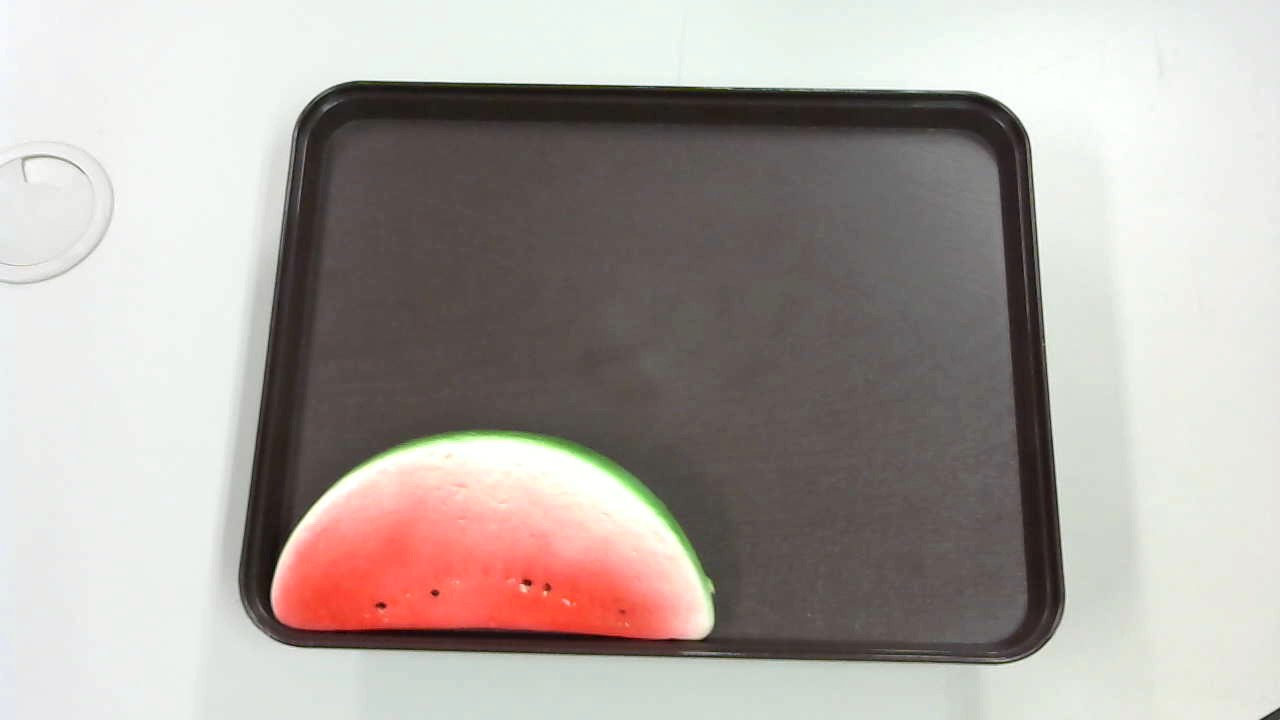water melon: (268, 427, 737, 669)
